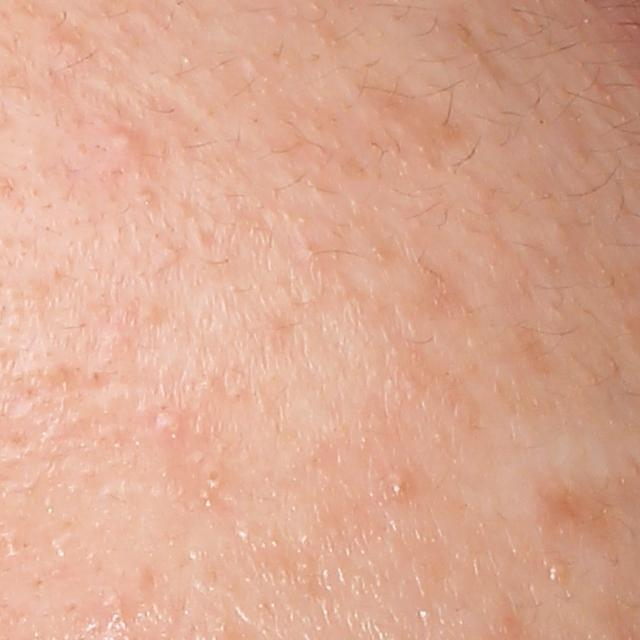comedo: (149, 410, 185, 445), (384, 467, 415, 502), (45, 36, 82, 58), (545, 555, 569, 585), (199, 464, 224, 490)
